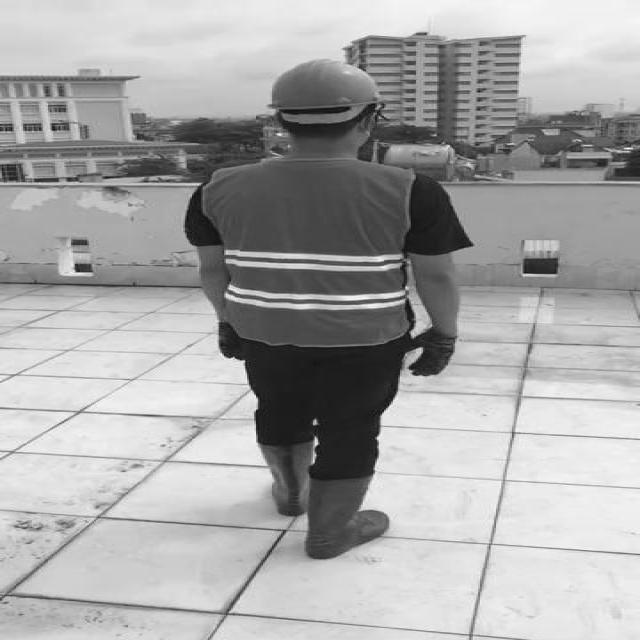boots: (308, 475, 388, 559), (261, 437, 315, 516)
hand_glove: (407, 332, 464, 375), (217, 322, 247, 359)
head_helmet: (264, 59, 387, 112)
person: (170, 58, 477, 566)
vest: (208, 162, 414, 345)
